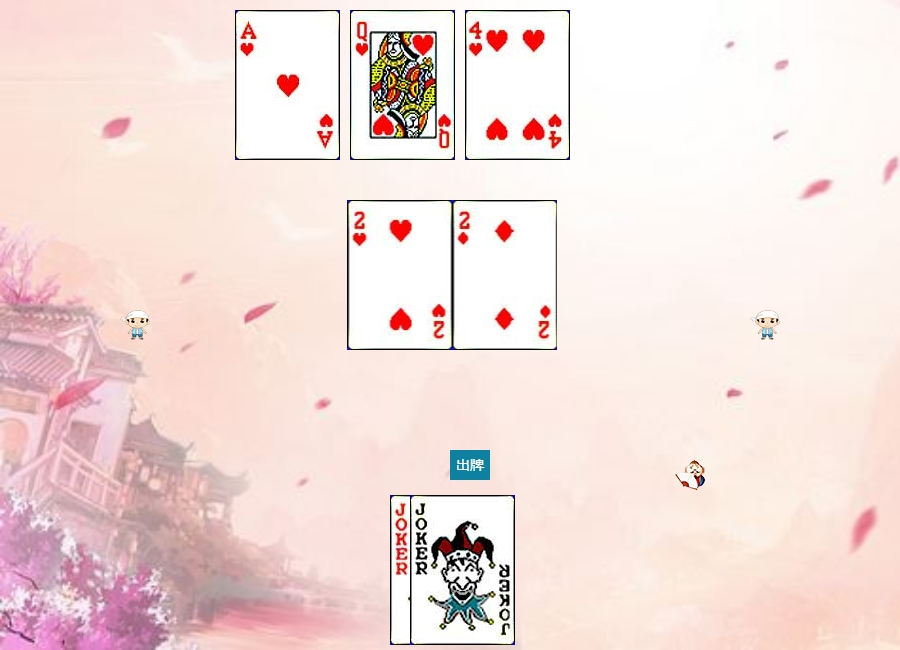12~3: (350, 10, 455, 160)
14~3: (235, 10, 340, 160)
15~1: (453, 200, 558, 350)
15~3: (348, 200, 453, 350)
17~3: (410, 495, 515, 645)
18~4: (390, 495, 495, 645)
4~3: (465, 10, 570, 160)
